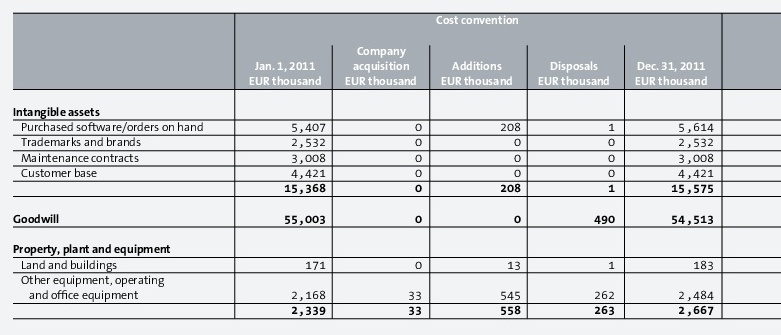table: (0, 0, 781, 335)
